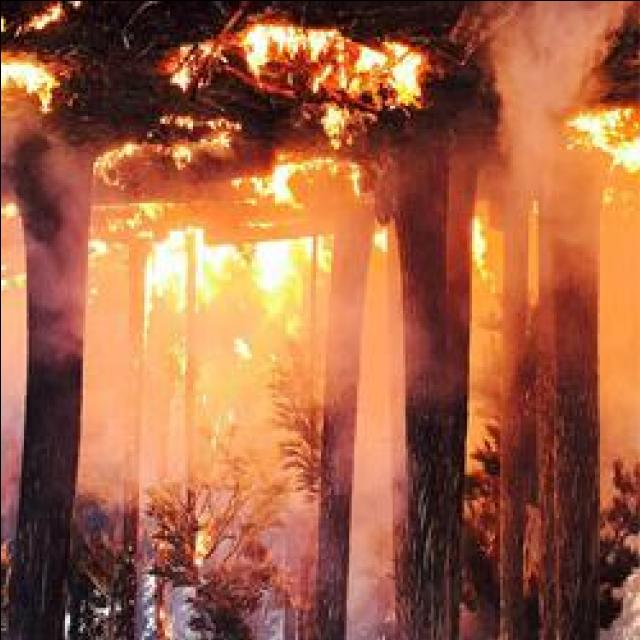fire: (144, 235, 223, 301), (62, 304, 130, 378), (244, 248, 296, 316), (586, 112, 640, 164), (362, 42, 410, 95), (248, 26, 312, 65), (0, 62, 54, 102), (260, 168, 294, 202), (472, 220, 492, 276), (370, 226, 390, 270), (320, 114, 340, 138)
smoke: (165, 362, 258, 454), (572, 286, 632, 406), (446, 300, 510, 402), (330, 377, 390, 445), (592, 203, 624, 233)
